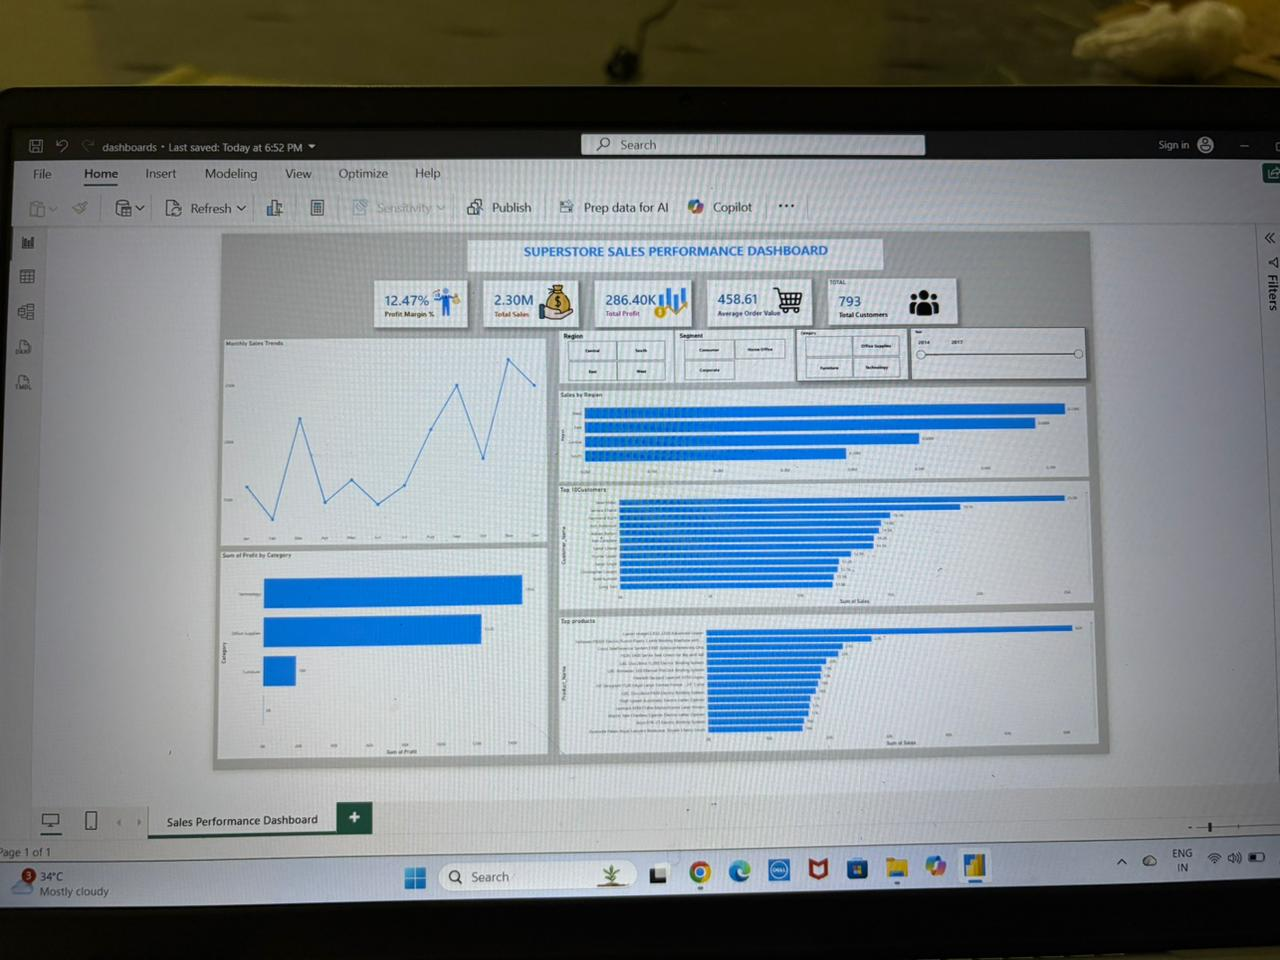

This screenshot's page, from the dashboard's own definition file:
{"tool":"powerbi","page":{"name":"Sales Performance Dashboard","canvas":[2500,1500],"ordinal":0},"visuals":[{"type":"lineChart","title":"Monthly Sales Trends","fields":{"Y":["Sum(superstore_cleaned2 (5).Sales)"],"Category":["DateTable.Month_Name"]},"box":[12.5,305,905,580],"z":0},{"type":"barChart","fields":{"Category":["superstore_cleaned2 (5).Category"],"Y":["Sum(superstore_cleaned2 (5).Profit)"]},"box":[12.5,902.5,905,567.5],"z":1000},{"type":"barChart","title":"Sales by Region","fields":{"Category":["superstore_cleaned2 (5).Region"],"Y":["Sum(superstore_cleaned2 (5).Sales)"]},"box":[952.5,455,1517.5,260],"z":2000},{"type":"cardVisual","fields":{"Data":["Sum(superstore_cleaned2 (5).Sales)"]},"box":[740.9,138.2,272,134],"z":3000},{"type":"cardVisual","fields":{"Data":["Sum(superstore_cleaned2 (5).Profit)"]},"box":[1057.7,138.2,278,134],"z":4000},{"type":"cardVisual","title":"TOTAL","fields":{"Data":["Count(superstore_cleaned2 (5).Customer_ID)"]},"box":[1728,138.2,374,134],"z":5000},{"type":"cardVisual","fields":{"Data":["DateTable.Average Order Value"]},"box":[1380.6,138.2,302.5,135],"z":6000},{"type":"barChart","title":"Top 10Customers","fields":{"Category":["superstore_cleaned2 (5).Customer_Name"],"Y":["Sum(superstore_cleaned2 (5).Sales)"]},"box":[950,727.5,1520,347.5],"z":7000},{"type":"barChart","title":"Top products","fields":{"Y":["Sum(superstore_cleaned2 (5).Sales)"],"Category":["superstore_cleaned2 (5).Product_Name"]},"box":[950,1096.7,1520,373.3],"z":8000},{"type":"slicer","fields":{"Values":["superstore_cleaned2 (5).Region"]},"box":[954,283,327.5,150],"z":9000},{"type":"slicer","fields":{"Values":["superstore_cleaned2 (5).Category"]},"box":[1634.8,283,320,150],"z":10000},{"type":"slicer","fields":{"Values":["superstore_cleaned2 (5).Segment"]},"box":[1288.2,283,340,150],"z":11000},{"type":"slicer","fields":{"Values":["DateTable.Year_Col"]},"box":[1962.5,282.5,512.5,150],"z":12000},{"type":"textbox","box":[697.5,22.5,1192.5,90],"z":13000},{"type":"cardVisual","fields":{"Data":["DateTable.Profit Margin %"]},"box":[432,138.2,264,136],"z":14000},{"type":"image","box":[1160,155,232.5,97.5],"z":16000},{"type":"image","box":[1770,167.5,470,85],"z":17000},{"type":"image","box":[1533.3,156.7,160,83.3],"z":18000},{"type":"image","box":[843.3,150,210,100],"z":19000},{"type":"image","box":[575,160,122.5,80],"z":20000}]}

Visuals, with their boxes on the page's 2500x1500 design canvas (x1, y1, x2, y2). These are canvas units, not pixel positions in the 1280x960 screenshot, which may show the page scaled, cropped or inside an application window:
"Monthly Sales Trends" lineChart: BBox(12, 305, 918, 885)
barChart - superstore_cleaned2 (5).Category x Sum(superstore_cleaned2 (5).Profit): BBox(12, 902, 918, 1470)
"Sales by Region" barChart: BBox(952, 455, 2470, 715)
cardVisual - Sum(superstore_cleaned2 (5).Sales): BBox(741, 138, 1013, 272)
cardVisual - Sum(superstore_cleaned2 (5).Profit): BBox(1058, 138, 1336, 272)
"TOTAL" cardVisual: BBox(1728, 138, 2102, 272)
cardVisual - DateTable.Average Order Value: BBox(1381, 138, 1683, 273)
"Top 10Customers" barChart: BBox(950, 728, 2470, 1075)
"Top products" barChart: BBox(950, 1097, 2470, 1470)
slicer - superstore_cleaned2 (5).Region: BBox(954, 283, 1282, 433)
slicer - superstore_cleaned2 (5).Category: BBox(1635, 283, 1955, 433)
slicer - superstore_cleaned2 (5).Segment: BBox(1288, 283, 1628, 433)
slicer - DateTable.Year_Col: BBox(1962, 282, 2475, 432)
textbox: BBox(698, 22, 1890, 112)
cardVisual - DateTable.Profit Margin %: BBox(432, 138, 696, 274)
image: BBox(1160, 155, 1392, 252)
image: BBox(1770, 168, 2240, 252)
image: BBox(1533, 157, 1693, 240)
image: BBox(843, 150, 1053, 250)
image: BBox(575, 160, 698, 240)
